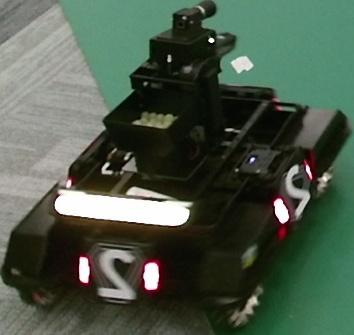armor_2: (79, 257, 159, 290), (274, 162, 313, 224)
light: (55, 188, 191, 226)
